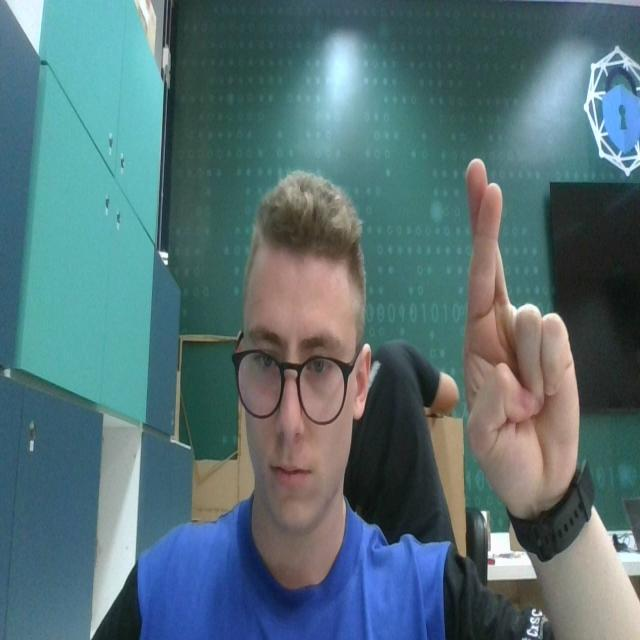R: (462, 153, 585, 505)
